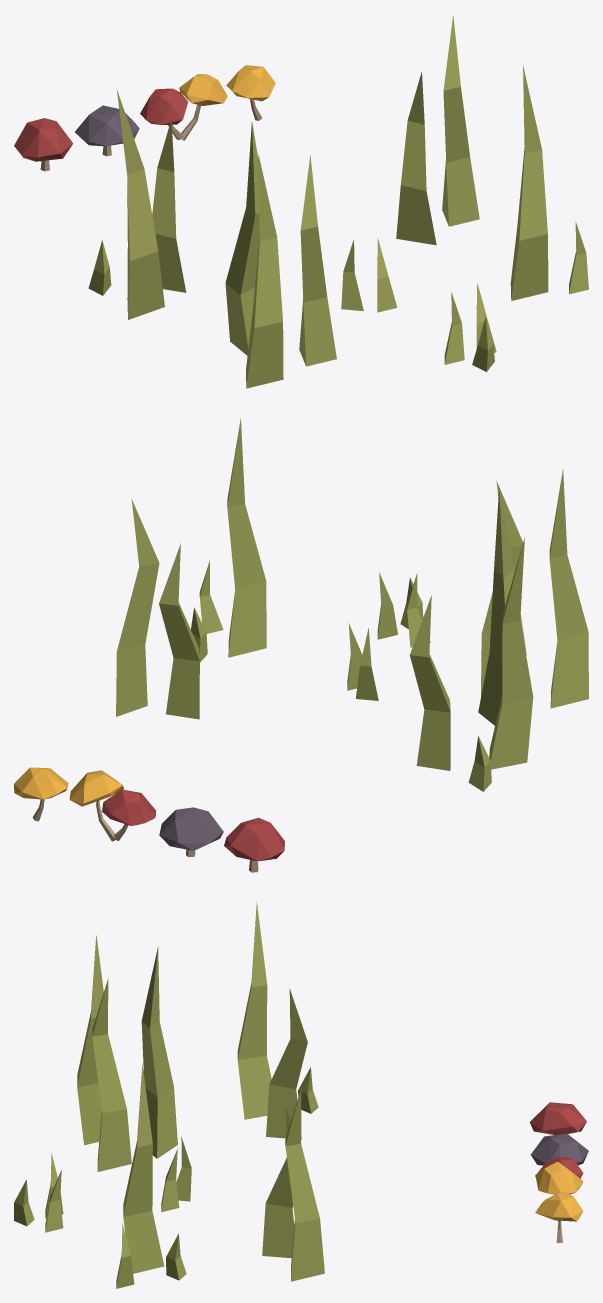
File: grass.glb
3 views of the same model, one above another, from view 1: azimuth 30°, elevation 25°; view 2: azimuth 150°, elevation 25°; view 3: azimuth 270°, elevation 25° (orthographic). The views are drawn at different scales.
Parts seen in each view (by area): view 1: Grass_01, Grass_06, Grass_05, Grass_03, Mushroom_03, Grass_02, Mushroom_01, Grass_04, Mushroom_02, Mushroom_04; view 2: Grass_01, Grass_06, Grass_05, Grass_03, Mushroom_03, Mushroom_02, Mushroom_01, Grass_02, Mushroom_04, Grass_04; view 3: Grass_01, Grass_06, Grass_05, Grass_03, Grass_02, Mushroom_03, Mushroom_01, Grass_04, Mushroom_02, Mushroom_04.
Part boxes in pixels (x1=…): Grass_01: x1=225, y1=121, x2=336, y2=388; Grass_06: x1=88, y1=90, x2=186, y2=319; Grass_05: x1=396, y1=15, x2=479, y2=245; Grass_03: x1=510, y1=65, x2=588, y2=300; Mushroom_03: x1=140, y1=74, x2=227, y2=140; Grass_02: x1=444, y1=283, x2=496, y2=371; Mushroom_01: x1=14, y1=118, x2=72, y2=171; Grass_04: x1=341, y1=237, x2=397, y2=312; Mushroom_02: x1=75, y1=105, x2=139, y2=156; Mushroom_04: x1=226, y1=65, x2=275, y2=120; Grass_01: x1=478, y1=469, x2=588, y2=725; Grass_06: x1=410, y1=537, x2=533, y2=791; Grass_05: x1=116, y1=499, x2=199, y2=719; Grass_03: x1=191, y1=418, x2=266, y2=662; Mushroom_03: x1=69, y1=770, x2=156, y2=841; Mushroom_02: x1=159, y1=807, x2=223, y2=857; Mushroom_01: x1=224, y1=817, x2=284, y2=872; Grass_02: x1=377, y1=572, x2=430, y2=647; Mushroom_04: x1=14, y1=767, x2=68, y2=821; Grass_04: x1=347, y1=623, x2=378, y2=700; Grass_01: x1=77, y1=935, x2=177, y2=1171; Grass_06: x1=237, y1=901, x2=318, y2=1139; Grass_05: x1=262, y1=1089, x2=324, y2=1281; Grass_03: x1=116, y1=1063, x2=186, y2=1288; Grass_02: x1=14, y1=1153, x2=63, y2=1232; Mushroom_03: x1=535, y1=1157, x2=583, y2=1194; Mushroom_01: x1=529, y1=1102, x2=586, y2=1134; Grass_04: x1=161, y1=1136, x2=191, y2=1212; Mushroom_02: x1=530, y1=1133, x2=588, y2=1165; Mushroom_04: x1=535, y1=1192, x2=583, y2=1242.
Size of the model in its own units: 0.8928 by 0.5239 by 1.26.
Materials: 1 (1 with a texture image).
